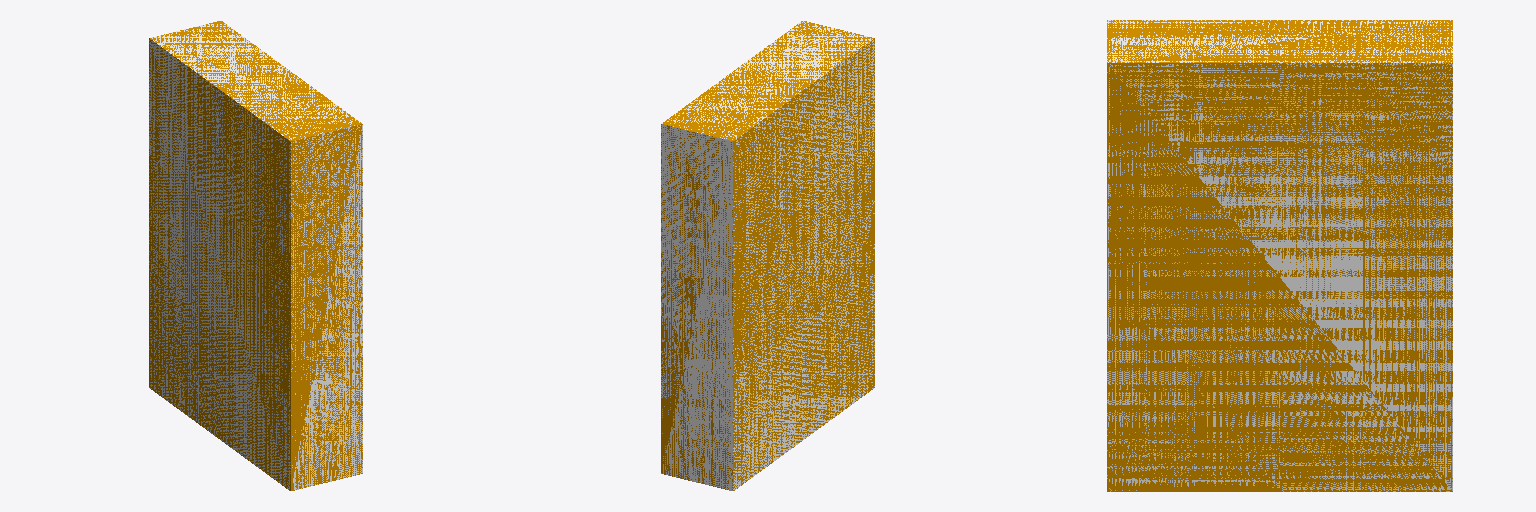
The robot description file, URDF, robot "my_object":
<?xml version="1.0" ?> 
<robot name="my_object" static="true">
  <link name="base_link">
  <inertial>
    <mass value="3.007" />
    <origin xyz="0 0 0.0" />
    <inertia ixx="1.0" ixy="0.0" ixz="0.0" iyy="1.0" iyz="0.0" izz="1.0"/>
  </inertial>
  <visual>
   <origin xyz="0 0 0.0" rpy="0 0 0" />
   <geometry>
     <mesh filename="package://cob_gazebo_objects/Media/models/book_journal_brown.dae"/>
   </geometry>
  </visual>
  <collision>
   <origin xyz="0 0 0" rpy="0 0 0" />
   <geometry>
     <box size="0.06 0.205 0.28" />
   </geometry>
  </collision>     
  </link>

<gazebo>
	<static>true</static>
</gazebo>
</robot>

--- What the picture shows (computed from the rendered views, not written in the file) ---
The picture shows the robot from 3 angles, left to right: view 1: azimuth 30°, elevation 25°; view 2: azimuth 150°, elevation 25°; view 3: azimuth 270°, elevation 25°; orthographic projection.
Robot: my_object — 1 links, 0 joints (none); root link base_link; default pose: all joints at 0.
Visible links, largest first — view 1: base_link; view 2: base_link; view 3: base_link.
Boxes of the visible links, box(x1,y1,x2,y2) form: base_link: box(149, 21, 362, 490); base_link: box(661, 21, 874, 490); base_link: box(1107, 20, 1452, 491).
Size in the robot's own frame: 0.0603 by 0.2045 by 0.2796 metres.
Meshes: 1 distinct files referenced, 1 mesh visuals loaded (1 Collada DAE).